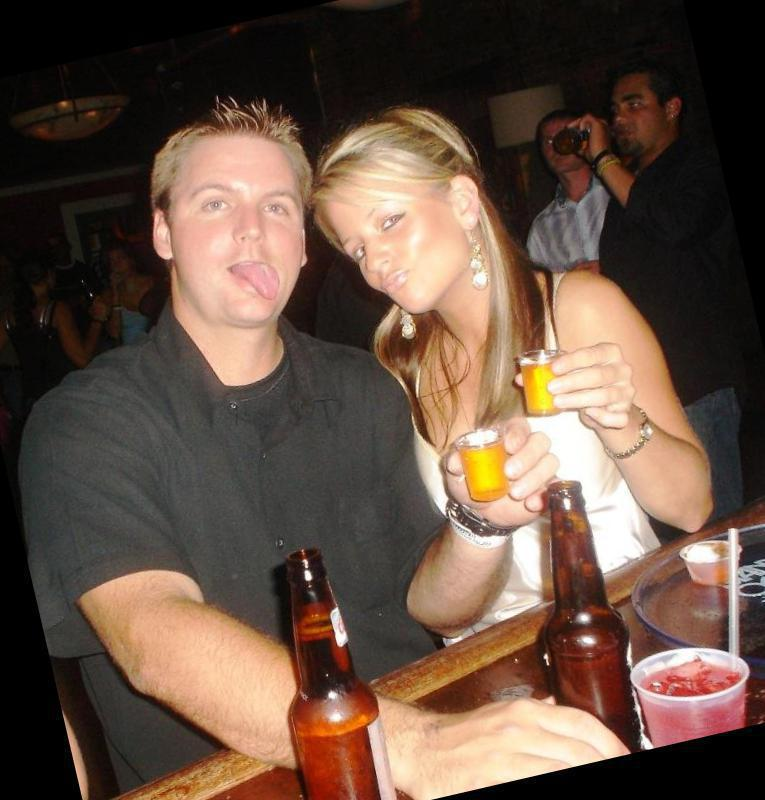Drunk: (182, 140, 307, 323), (334, 185, 466, 305)
